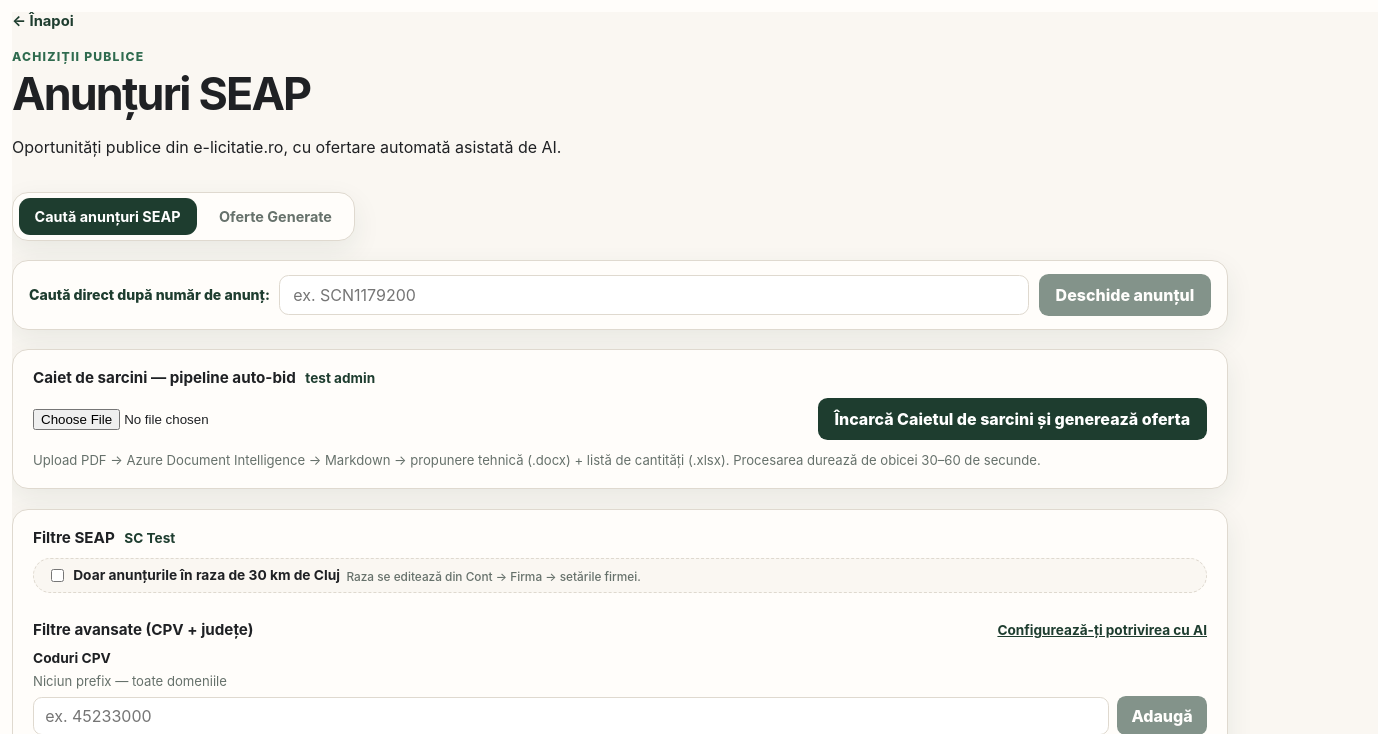
Test case: SeapTendersComponent › shows a friendly error when the pipeline fails with a backend ProblemDetails detail
Click the button "Încarcă Caietul de sarcini și generează oferta": (1012, 419) 818,398 -> 1207,440
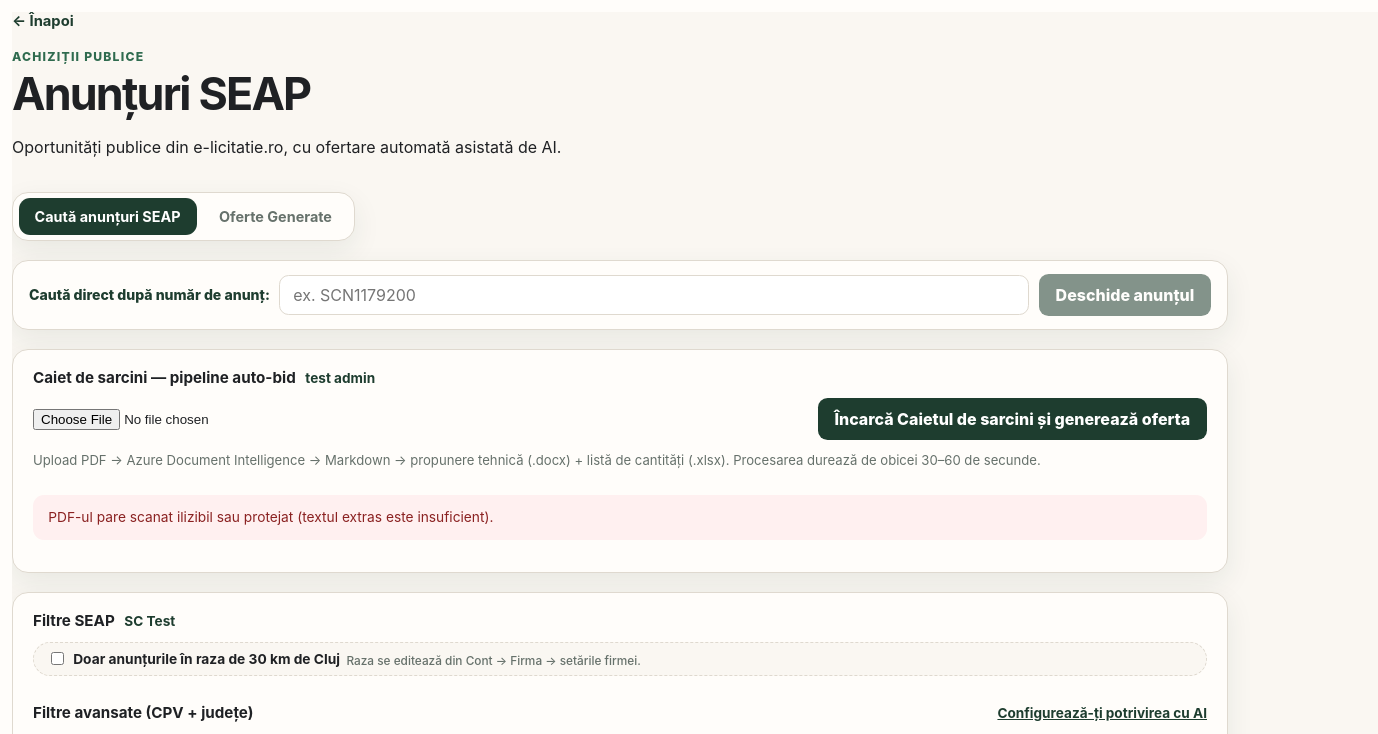
Expected: the text "scanat ilizibil sau protejat" is shown, 48,509 -> 494,525
